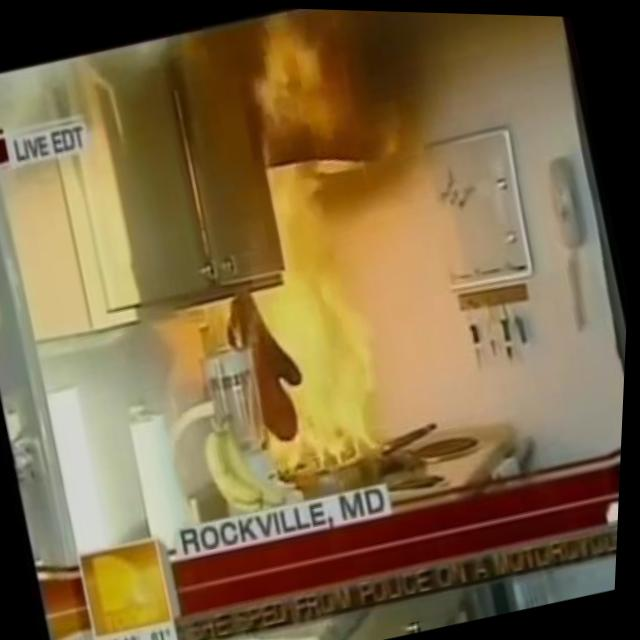fire: (133, 6, 438, 492)
